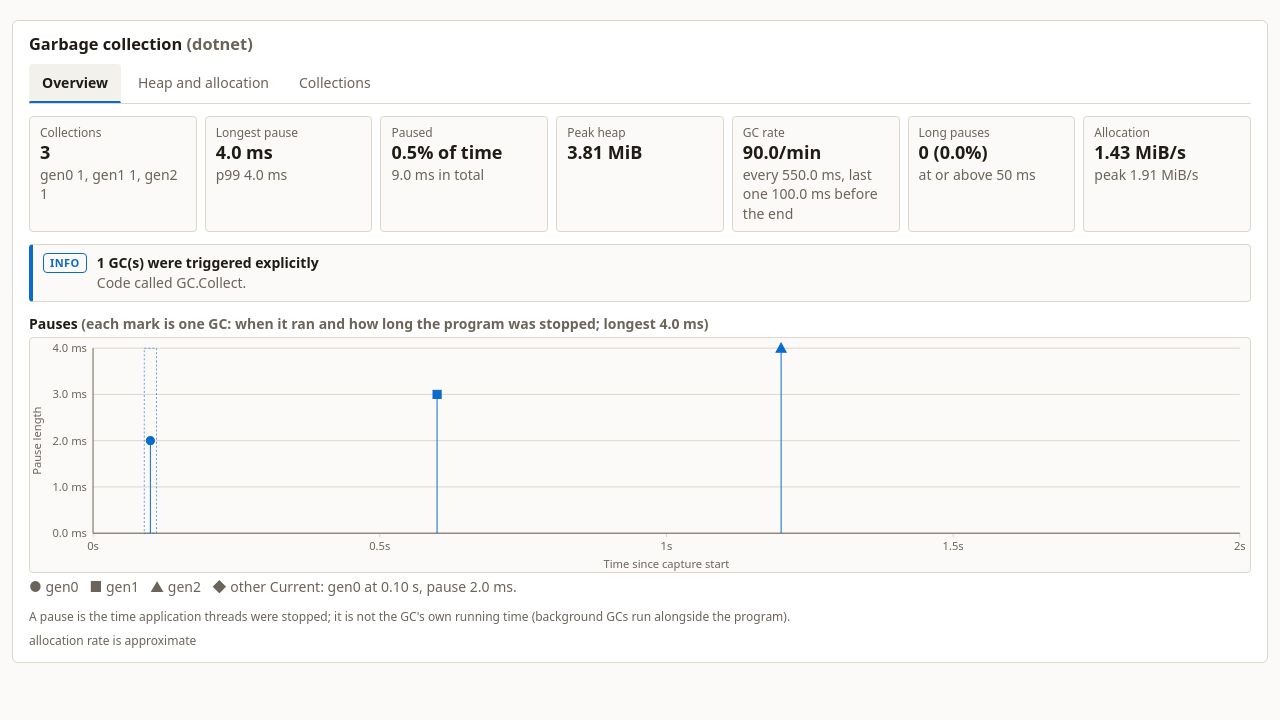
Test: GcView › selects a window from the keyboard and can clear it
Press Enter in the icon named "Pause timeline, 3 GCs. Left and Right move between GCs, Ente", box 29,337 -> 1251,573
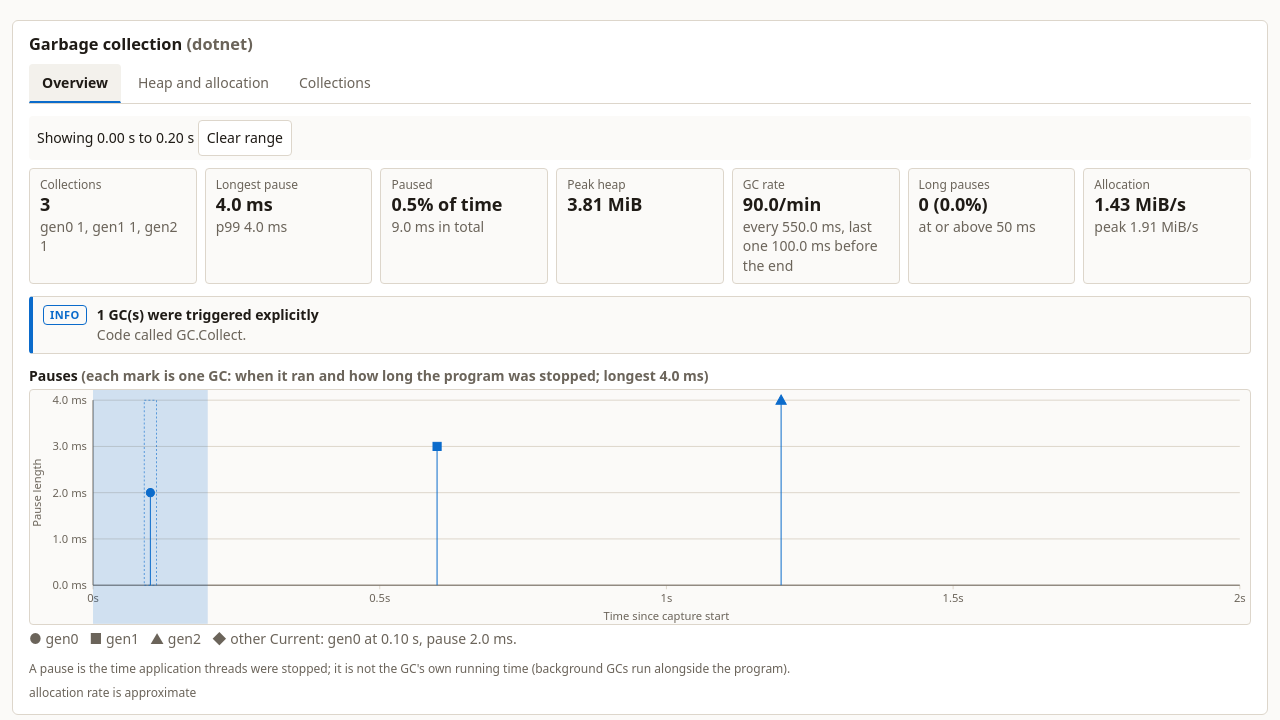
Now the message "Showing 0.00 s to 0.20 s Clear range" is shown, box 29,116 -> 1251,160
Now the button "Clear range" is shown
Click the button "Clear range" at point(245, 138), box 198,120 -> 292,156
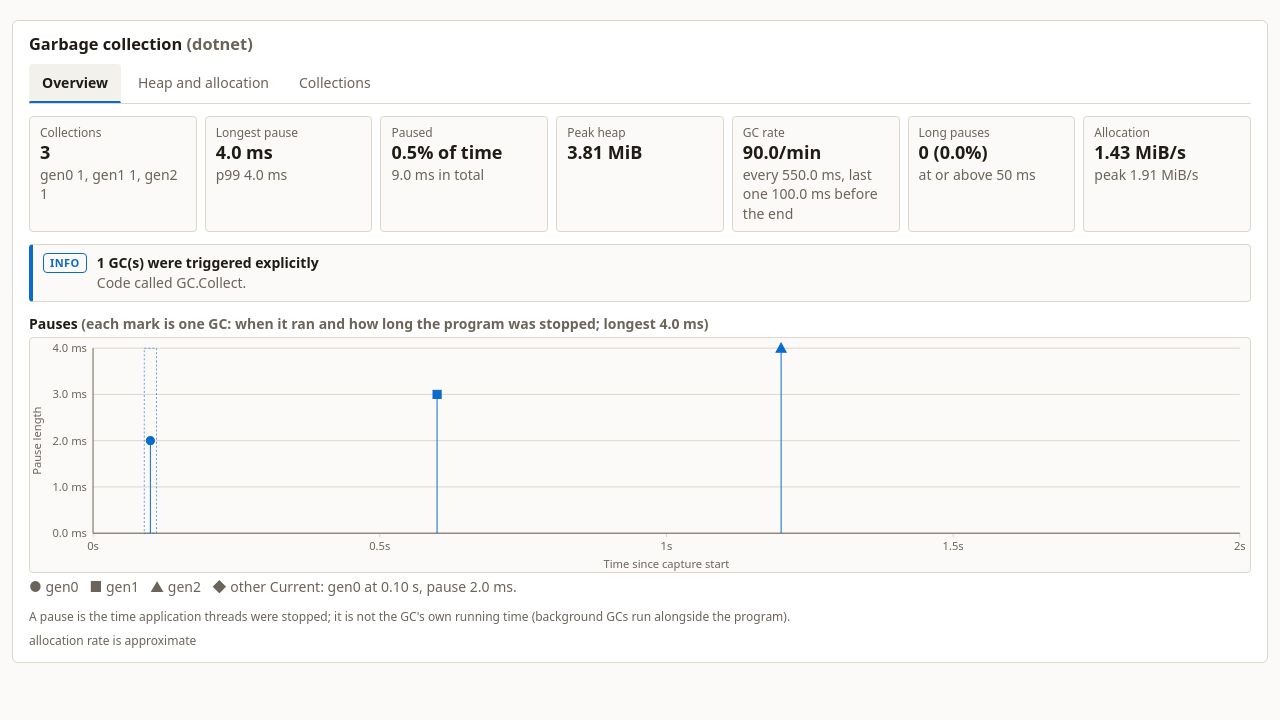
Now the text "Clear range" is gone
